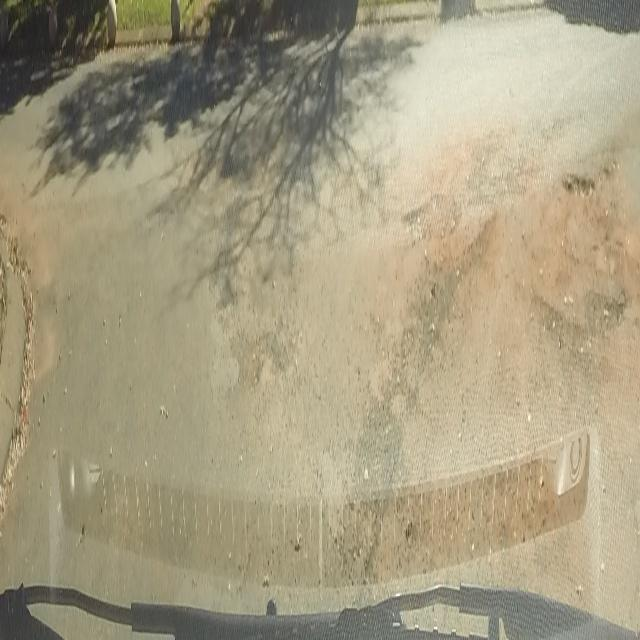pothole: (560, 165, 596, 201), (399, 199, 426, 234)
